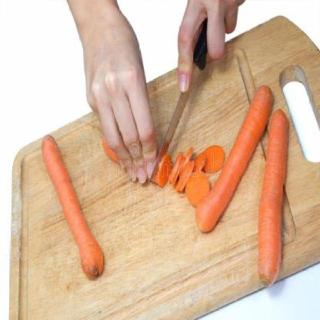carrot: (194, 82, 272, 236), (38, 134, 106, 282), (256, 108, 290, 291)
